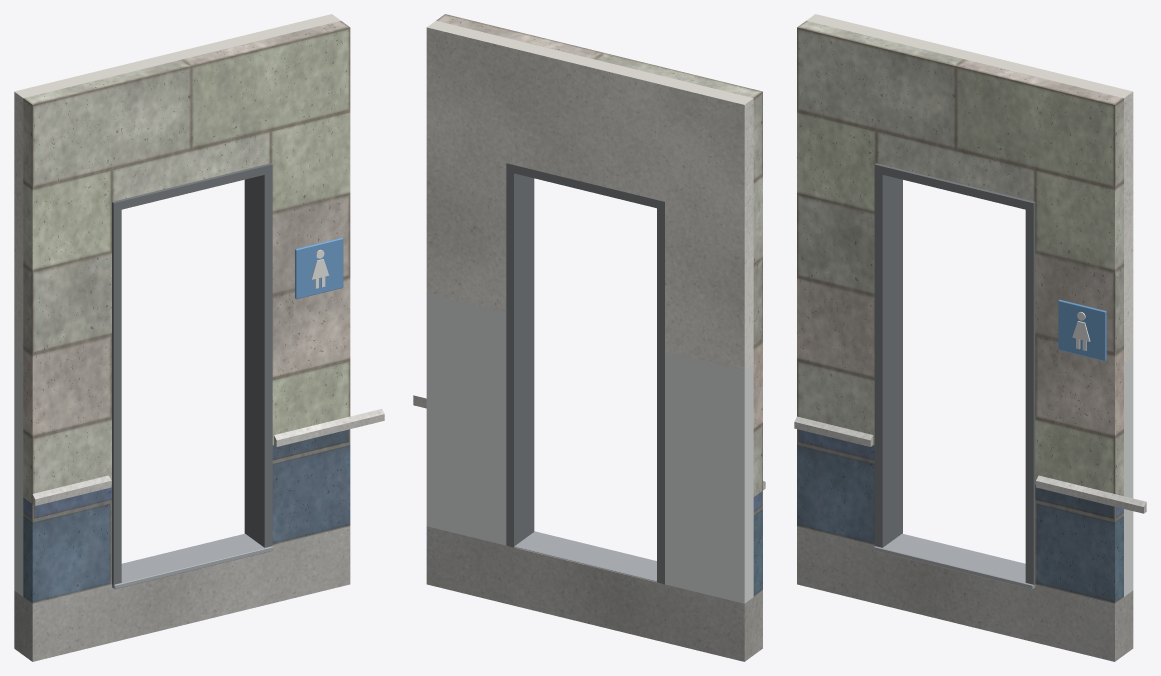
Rendered from r_door_f_eb.glb.
3 views of the same model, side by side, from view 1: azimuth 30°, elevation 25°; view 2: azimuth 150°, elevation 25°; view 3: azimuth 330°, elevation 25° (orthographic).
Visible parts, largest first — view 1: r_door_f_eb_cmu, r_door_f_eb_concrete, r_door_f_eb_cmu2, r_door_f_eb_steel_d, r_door_f_eb_plaster, r_door_f_eb_steel, r_door_f_eb_coping, r_door_f_eb_tile, r_door_f_eb_paint_b; view 2: r_door_f_eb_plaster, r_door_f_eb_tile, r_door_f_eb_concrete, r_door_f_eb_steel_d, r_door_f_eb_cmu, r_door_f_eb_steel, r_door_f_eb_cmu2; view 3: r_door_f_eb_cmu, r_door_f_eb_concrete, r_door_f_eb_steel_d, r_door_f_eb_cmu2, r_door_f_eb_plaster, r_door_f_eb_steel, r_door_f_eb_coping, r_door_f_eb_tile, r_door_f_eb_paint_b.
Part boxes in pixels (x1,y1,x2,y2): r_door_f_eb_cmu: [23, 21, 350, 503]; r_door_f_eb_concrete: [14, 526, 350, 661]; r_door_f_eb_cmu2: [23, 429, 350, 603]; r_door_f_eb_steel_d: [112, 163, 272, 585]; r_door_f_eb_plaster: [14, 14, 340, 363]; r_door_f_eb_steel: [112, 533, 273, 589]; r_door_f_eb_coping: [32, 409, 384, 505]; r_door_f_eb_tile: [14, 358, 23, 596]; r_door_f_eb_paint_b: [295, 237, 343, 299]; r_door_f_eb_plaster: [426, 21, 753, 370]; r_door_f_eb_tile: [426, 293, 753, 603]; r_door_f_eb_concrete: [426, 526, 762, 661]; r_door_f_eb_steel_d: [506, 163, 664, 584]; r_door_f_eb_cmu: [436, 14, 762, 496]; r_door_f_eb_steel: [514, 531, 656, 581]; r_door_f_eb_cmu2: [753, 491, 762, 596]; r_door_f_eb_cmu: [797, 20, 1123, 495]; r_door_f_eb_concrete: [797, 526, 1133, 661]; r_door_f_eb_steel_d: [874, 163, 1035, 584]; r_door_f_eb_cmu2: [797, 429, 1123, 603]; r_door_f_eb_plaster: [806, 14, 1133, 363]; r_door_f_eb_steel: [874, 533, 1035, 589]; r_door_f_eb_coping: [794, 416, 1146, 513]; r_door_f_eb_tile: [1124, 358, 1133, 596]; r_door_f_eb_paint_b: [1058, 299, 1106, 361].
Size of the model in its own units: 2.2 by 3.35 by 0.23.
Materials: 10 (5 with a texture image).
